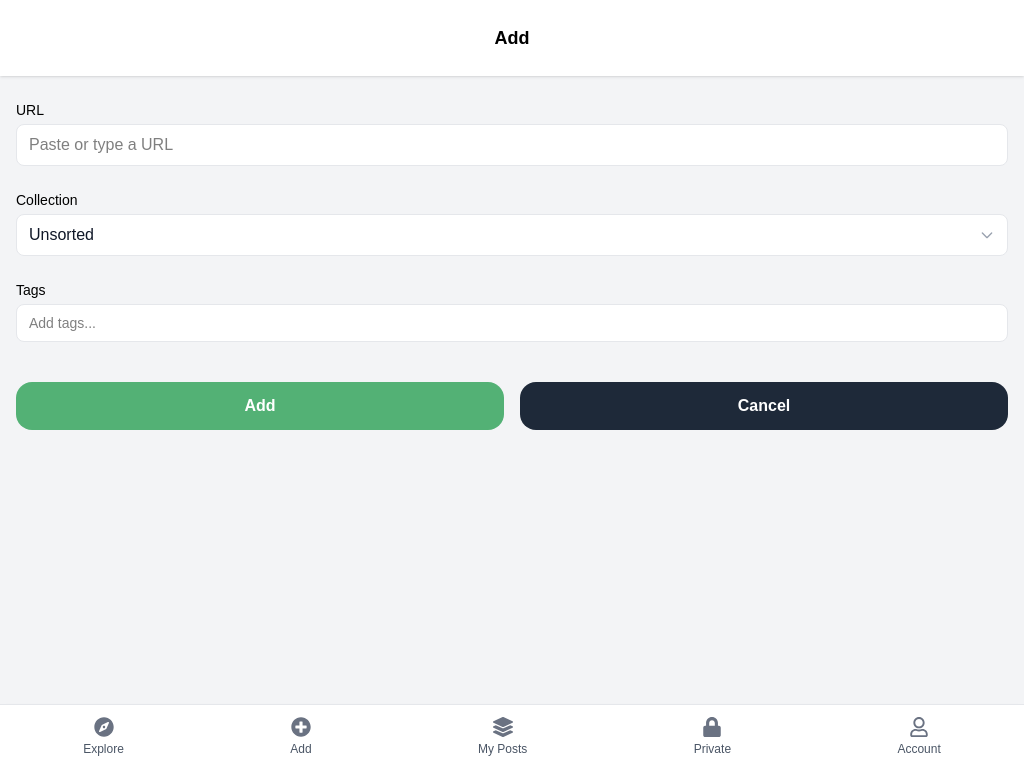
Test: AddPage › adds a new group and selects it
Click the text "Unsorted" at point(61, 234), box [29,226,94,243]
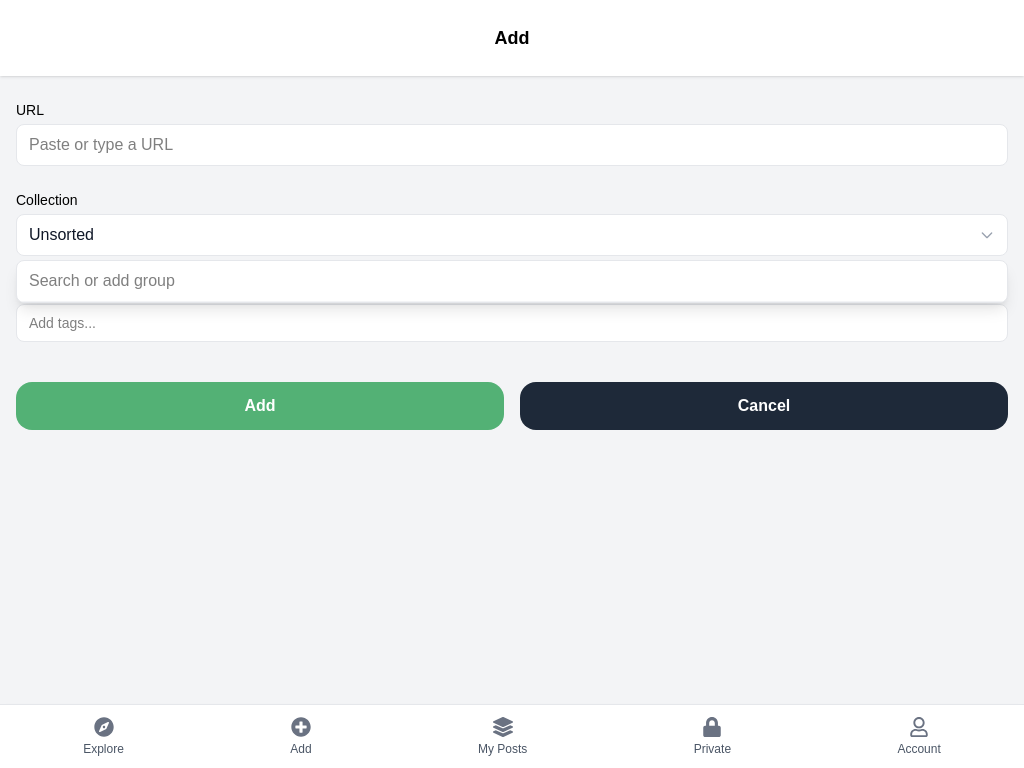
Type "NewGroup" into the field with placeholder "Search or add group" at point(512, 282), box [17,261,1007,302]
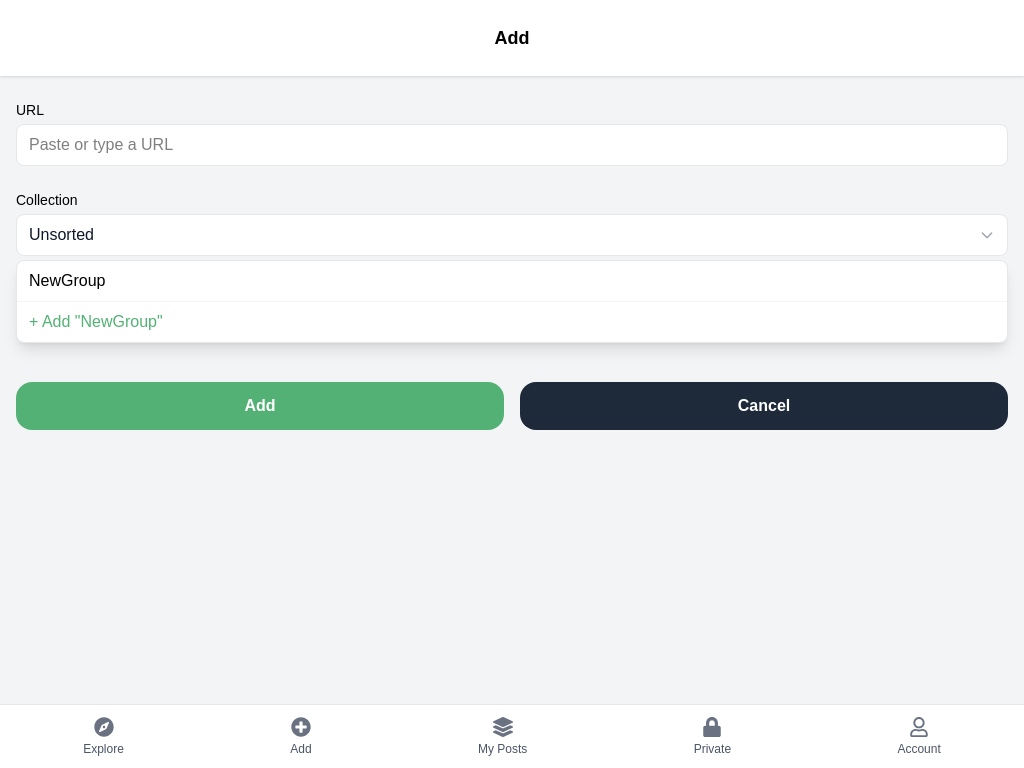
Press Enter in the field with placeholder "Search or add group", box [17,261,1007,302]
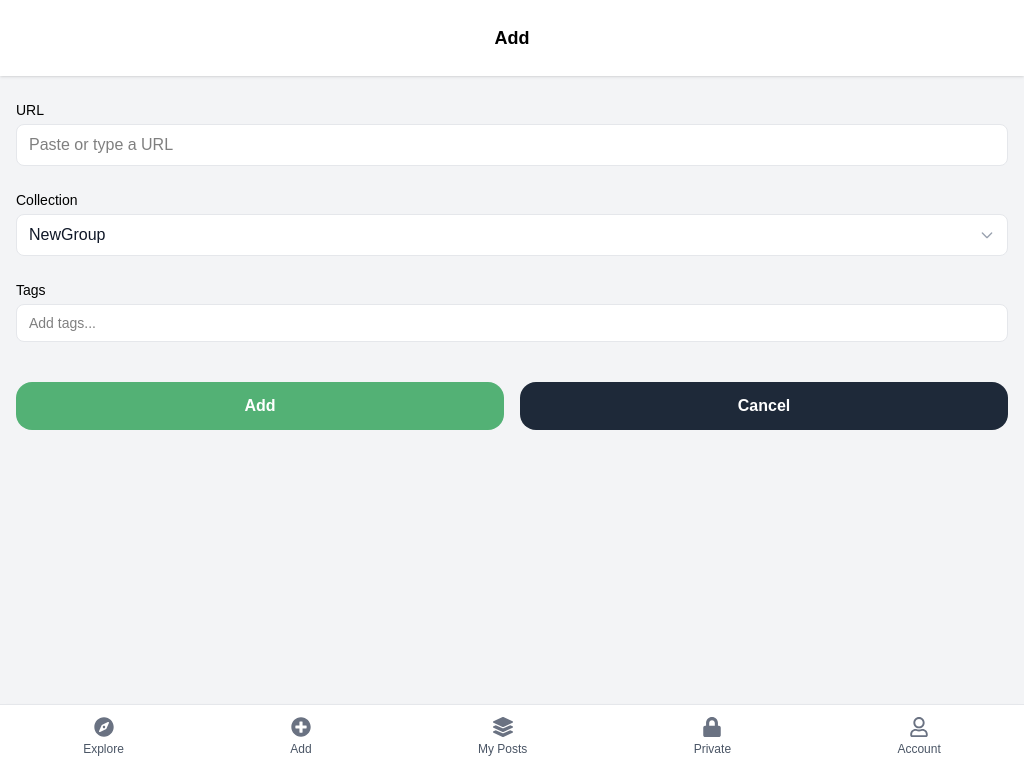
Now the text "NewGroup" is shown, box [29,226,106,243]
